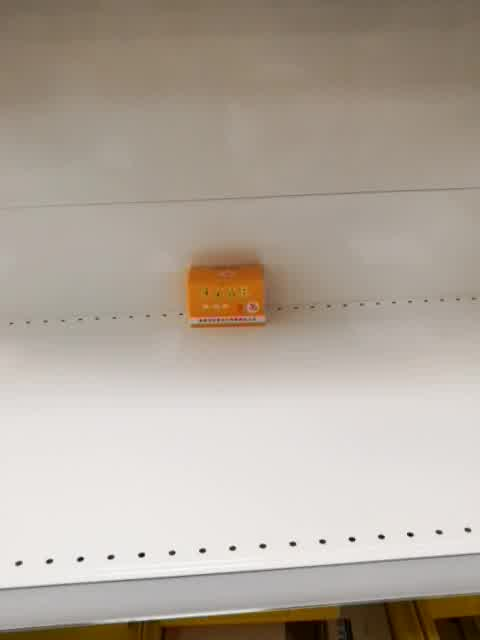jasminetea: (186, 261, 267, 328)
